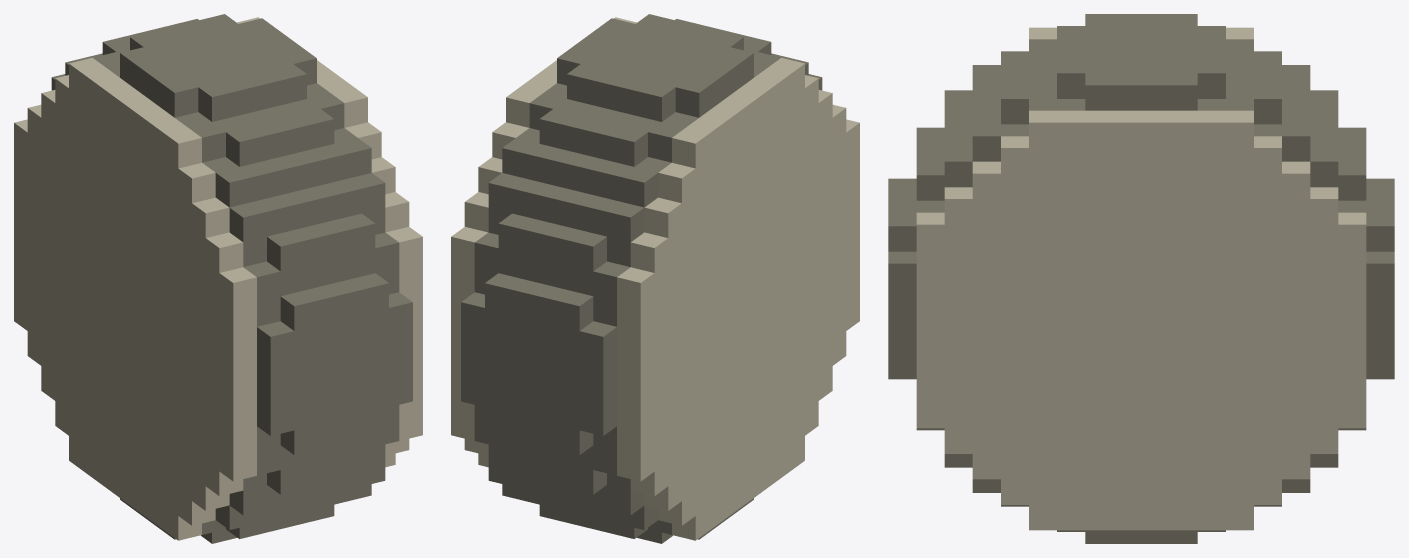
The model's file is factory4.4-8.obj.
3 views of the same model, side by side, from view 1: azimuth 30°, elevation 25°; view 2: azimuth 150°, elevation 25°; view 3: azimuth 270°, elevation 25° (orthographic). The views are drawn at different scales.
Bounding box in the file's own units: 0.8 × 1.8 × 1.8.
Materials: 1 (1 with a texture image).
